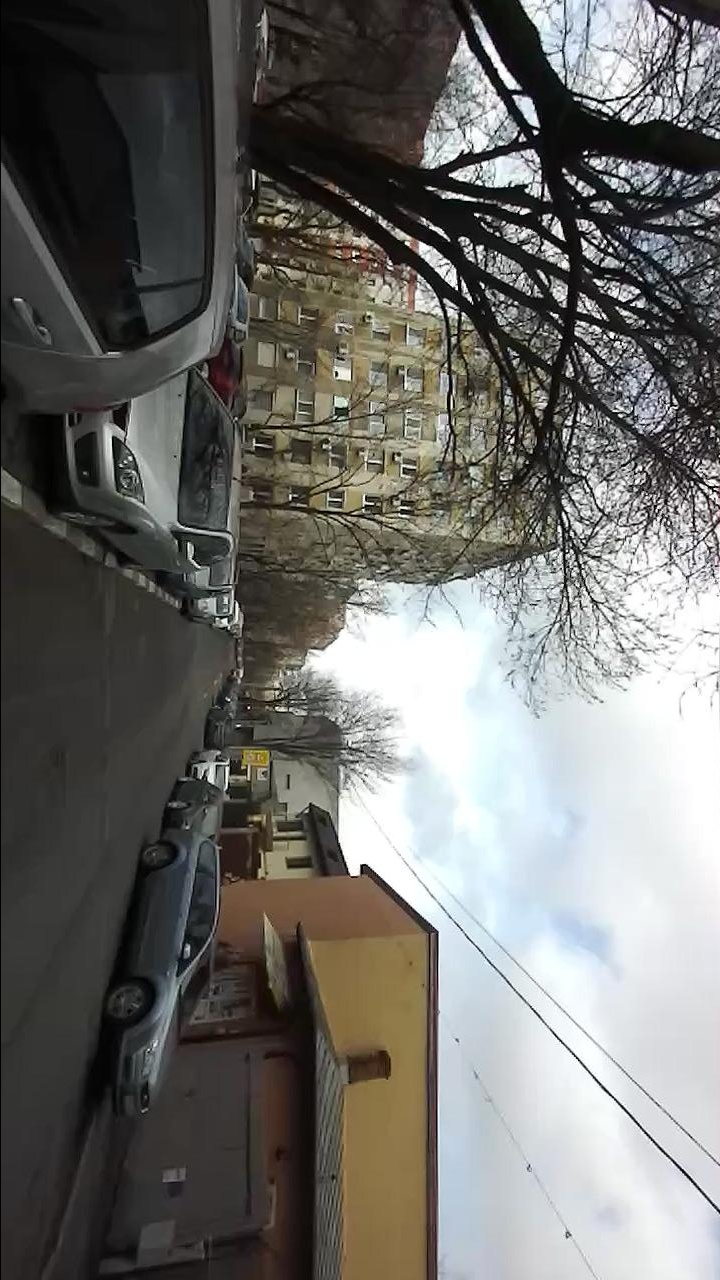pothole: (40, 745, 73, 803)
